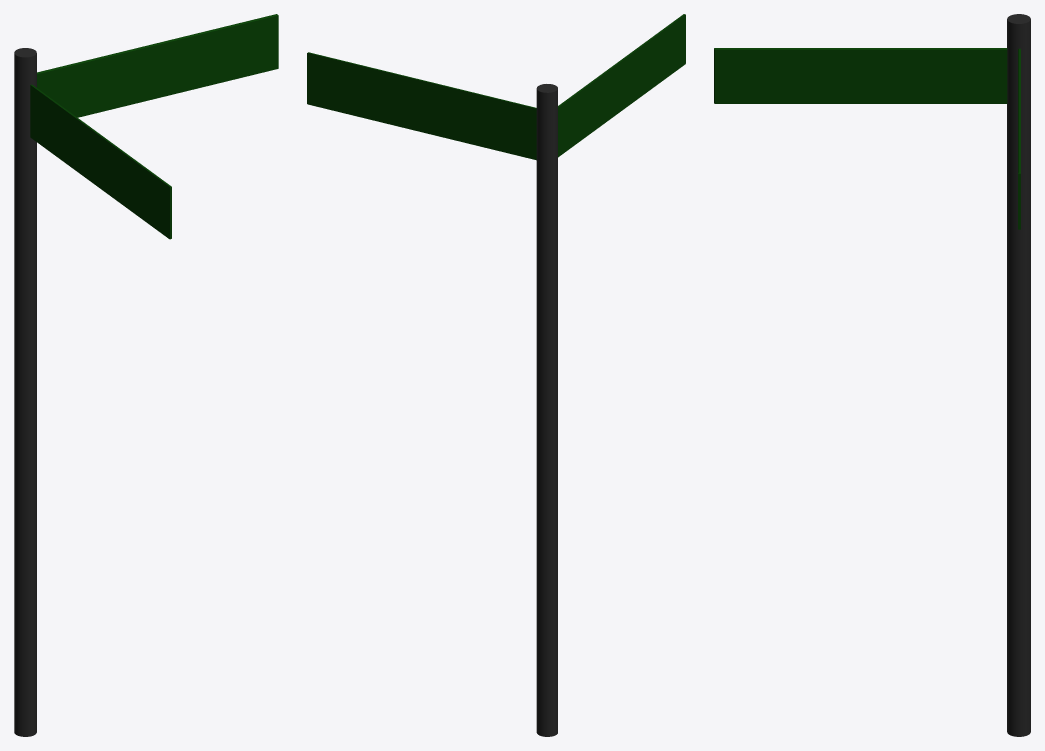
The model's file is Sign01.fbx.
3 views of the same model, side by side, from view 1: azimuth 30°, elevation 25°; view 2: azimuth 150°, elevation 25°; view 3: azimuth 270°, elevation 25° (orthographic). The views are drawn at different scales.
Parts seen in each view (by area): view 1: pCylinder50; view 2: pCylinder50; view 3: pCylinder50.
Part boxes in pixels (x1=…): pCylinder50: x1=14, y1=14, x2=278, y2=736; pCylinder50: x1=307, y1=14, x2=685, y2=736; pCylinder50: x1=714, y1=14, x2=1030, y2=736.
Bounding box in the file's own units: 256 × 632 × 255.
